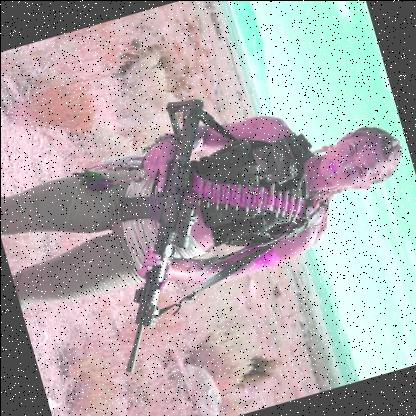rifle: (50, 89, 273, 380)
